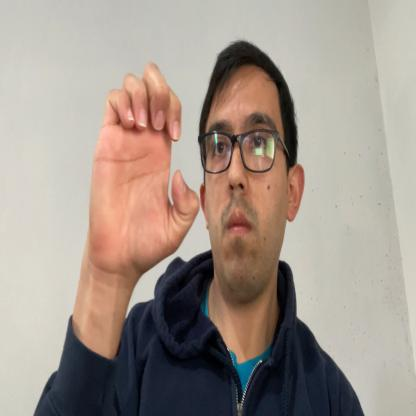E: (87, 58, 200, 274)
